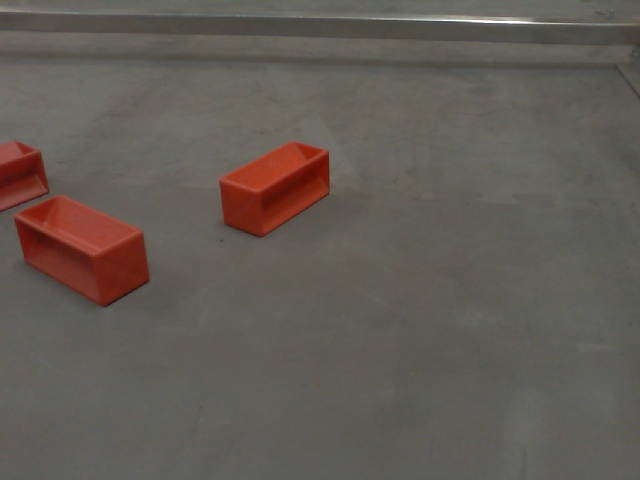RedSample: (13, 194, 150, 308), (216, 138, 333, 236), (1, 139, 51, 207)
